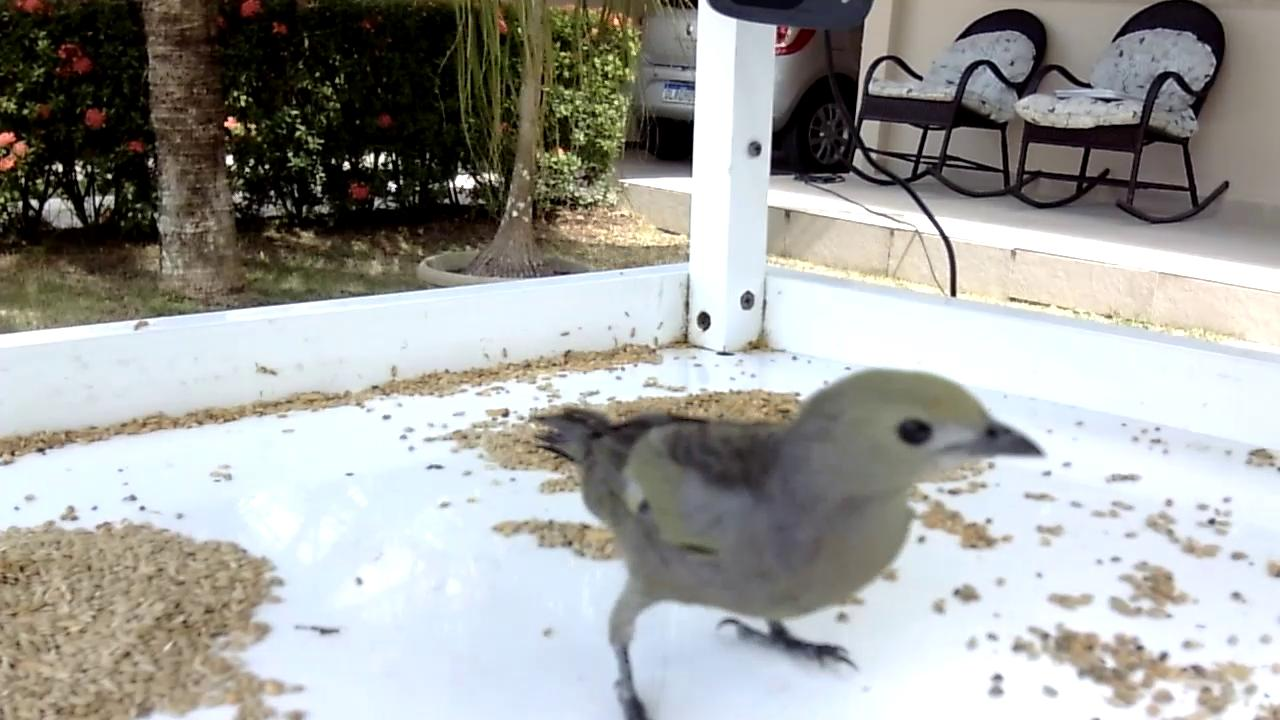sanhaco_do_coqueiro: (534, 369, 1048, 720)
